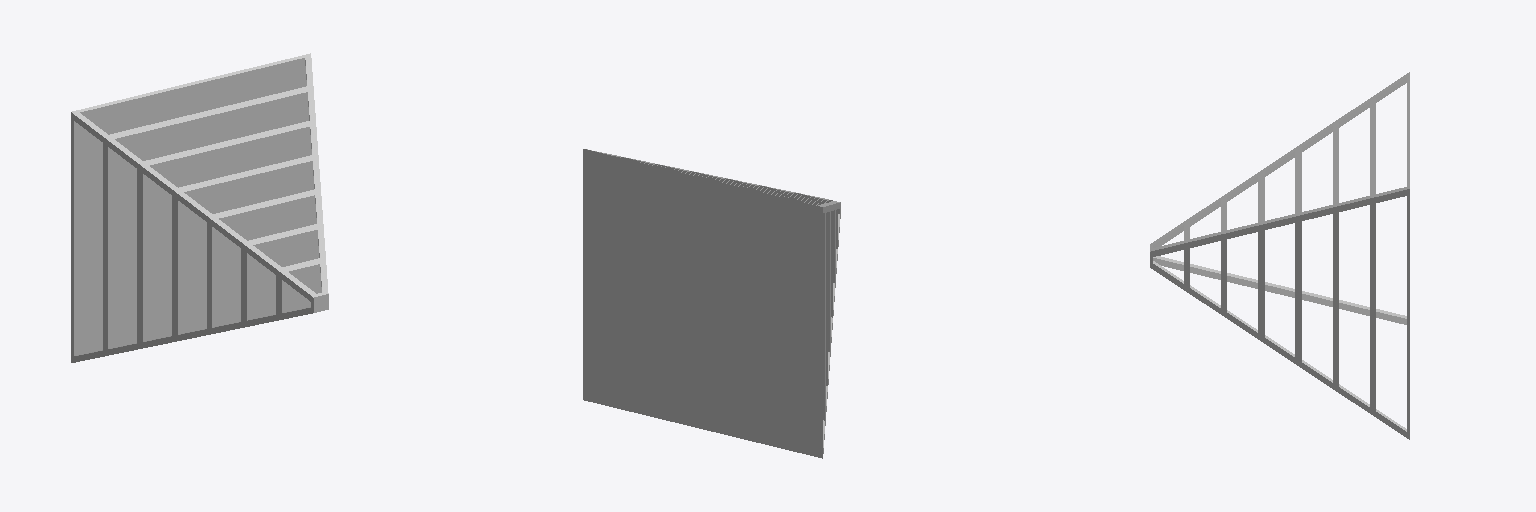
File: Pyramid_small.obj
3 renders of one model, left to right at view 1: azimuth 30°, elevation 25°; view 2: azimuth 150°, elevation 25°; view 3: azimuth 270°, elevation 25°, orthographic.
Visible parts, largest first — view 1: Pyramid_small; view 2: Pyramid_small; view 3: Pyramid_small.
Boxes of the visible parts, x1,y1,x2,y2 form: Pyramid_small: [71, 53, 328, 362]; Pyramid_small: [583, 149, 840, 458]; Pyramid_small: [1150, 72, 1409, 439].
Size of the model in its own units: 1 by 1 by 0.9375.